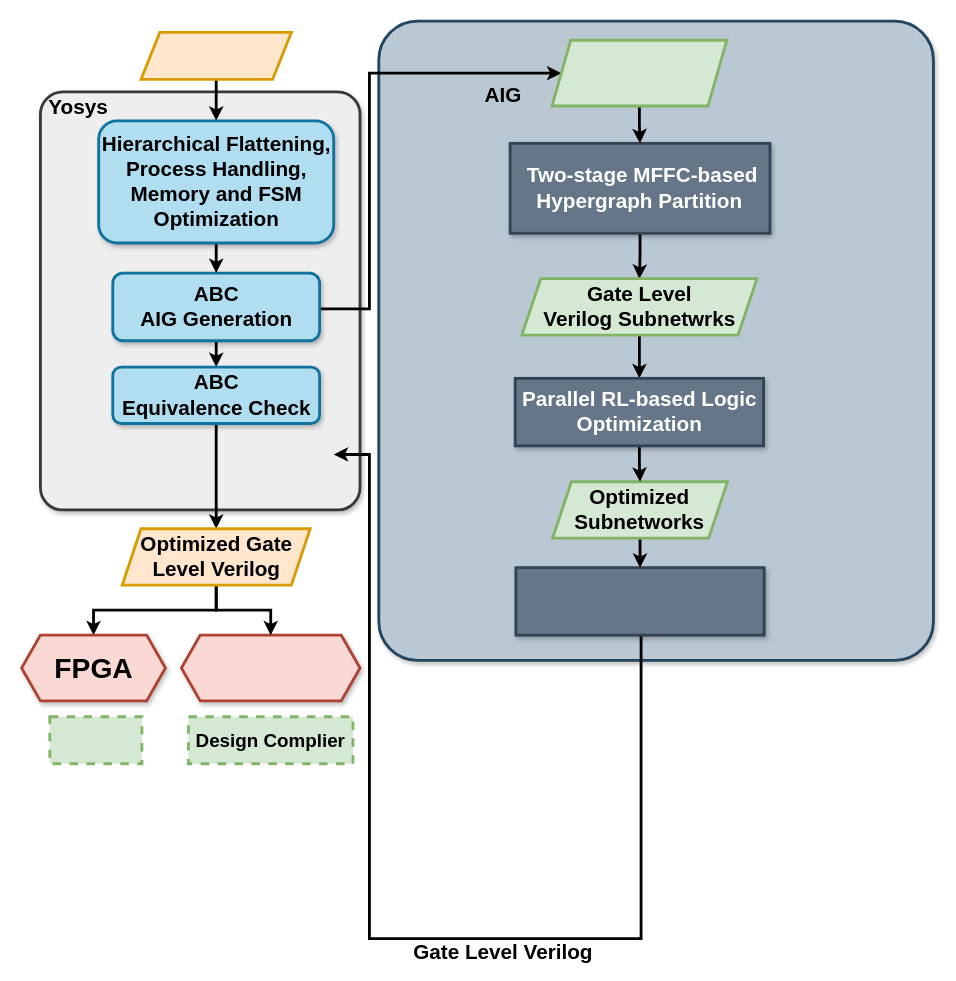
Some shapes in this 956 by 981 pixel diagram are drawn without their labels. The shapes that lost their labels are listed below. From the top down, each one's centre as x and y in pixels, then its label:
(215,55): RTL Verilog
(639,72): And Inverter Graph
(640,602): Subnetworks Merge
(271,669): ASIC
(95,740): VPR
